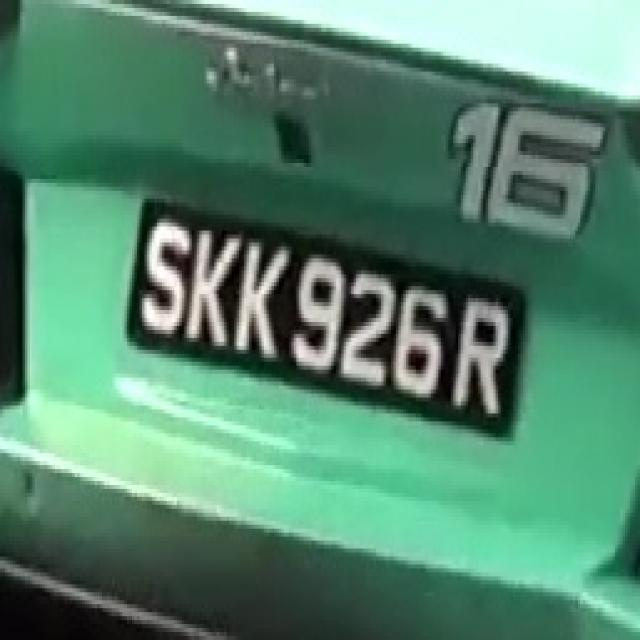2: (338, 262, 394, 390)
6: (391, 266, 448, 418)
9: (289, 246, 339, 390)
K: (182, 215, 236, 358), (236, 230, 282, 378)
R: (448, 286, 508, 434)
S: (134, 210, 190, 354)
